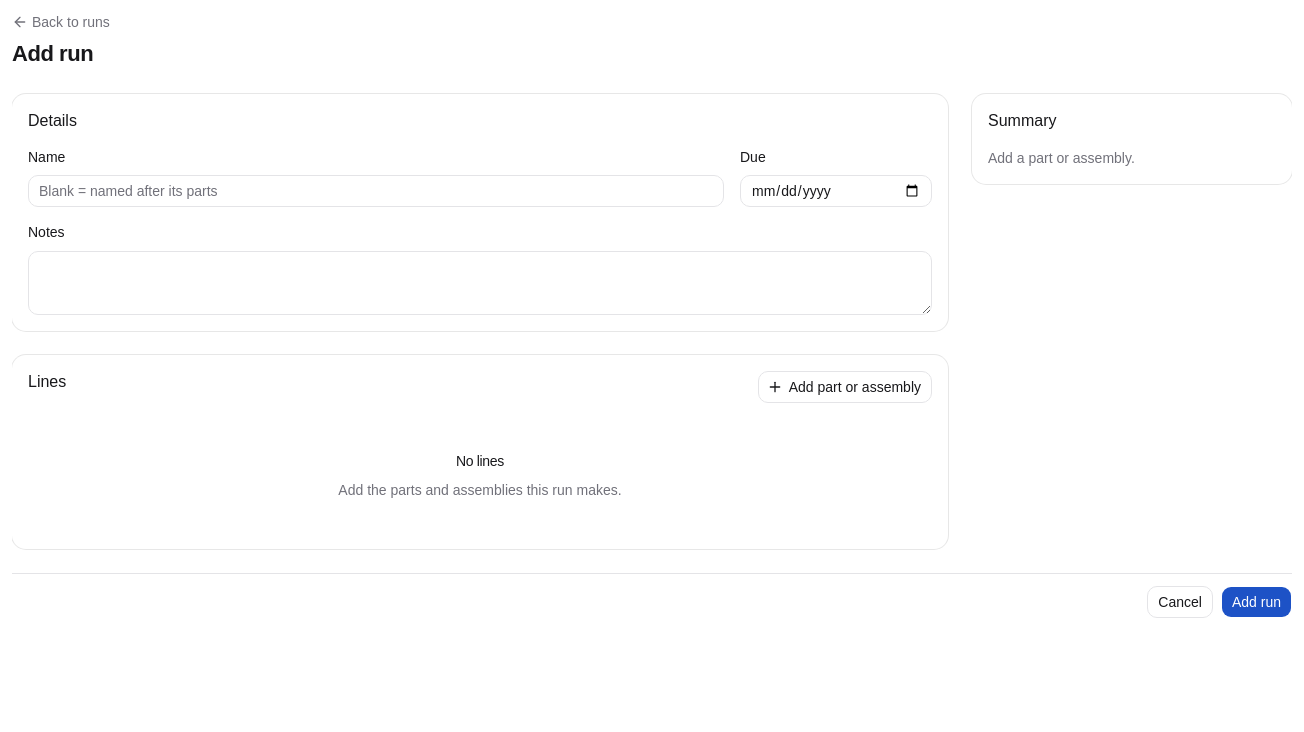
it: asks for at least one line before adding
Click the button "Add run" at (1256, 602), box [1221, 586, 1292, 618]
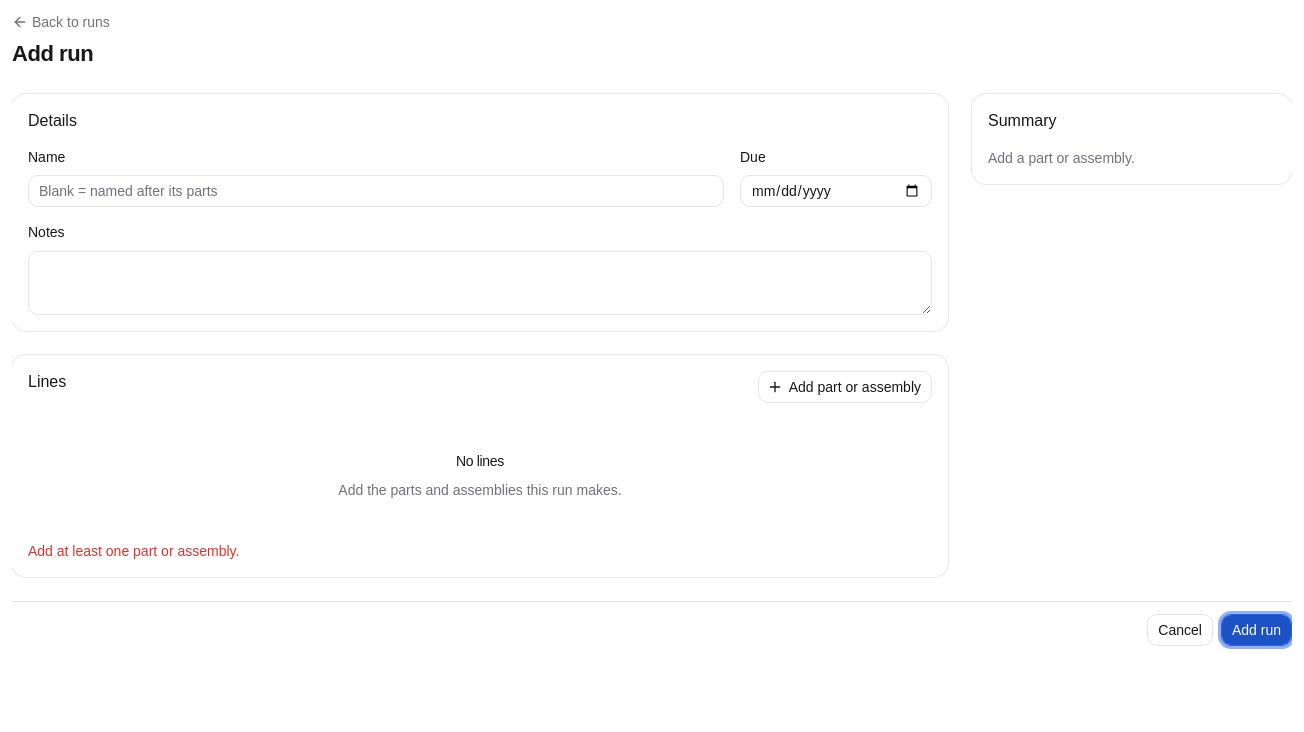
Now the text "Add at least one part or assembly." is shown, box [28, 543, 239, 559]
